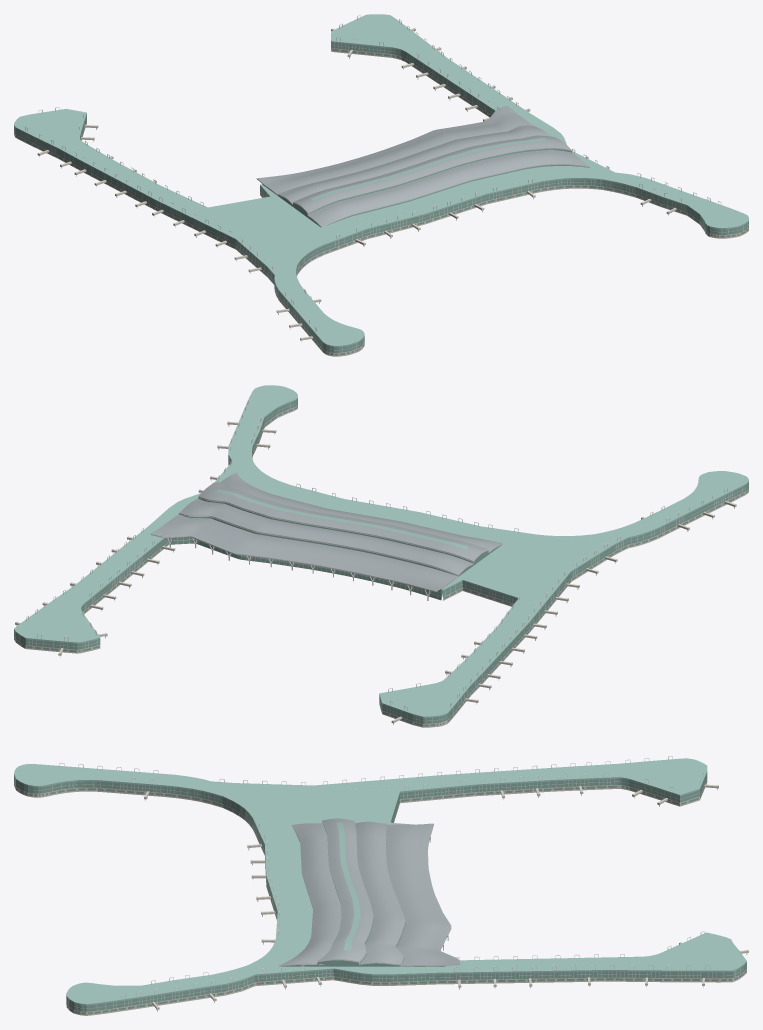
Rendered from incheon-airport-terminal-2.detail.glb.
3 renders of one model, top to bottom at view 1: azimuth 30°, elevation 25°; view 2: azimuth 150°, elevation 25°; view 3: azimuth 270°, elevation 25°, orthographic. The views are drawn at different scales.
Visible parts, largest first — view 1: Incheon International Airport Terminal 2; view 2: Incheon International Airport Terminal 2; view 3: Incheon International Airport Terminal 2.
Part boxes in pixels (box(x1,y1,x2,y2)): Incheon International Airport Terminal 2: box(14, 14, 748, 356); Incheon International Airport Terminal 2: box(14, 385, 748, 727); Incheon International Airport Terminal 2: box(14, 756, 748, 1015).
Size of the model in its own units: 909 by 40.01 by 1140.
